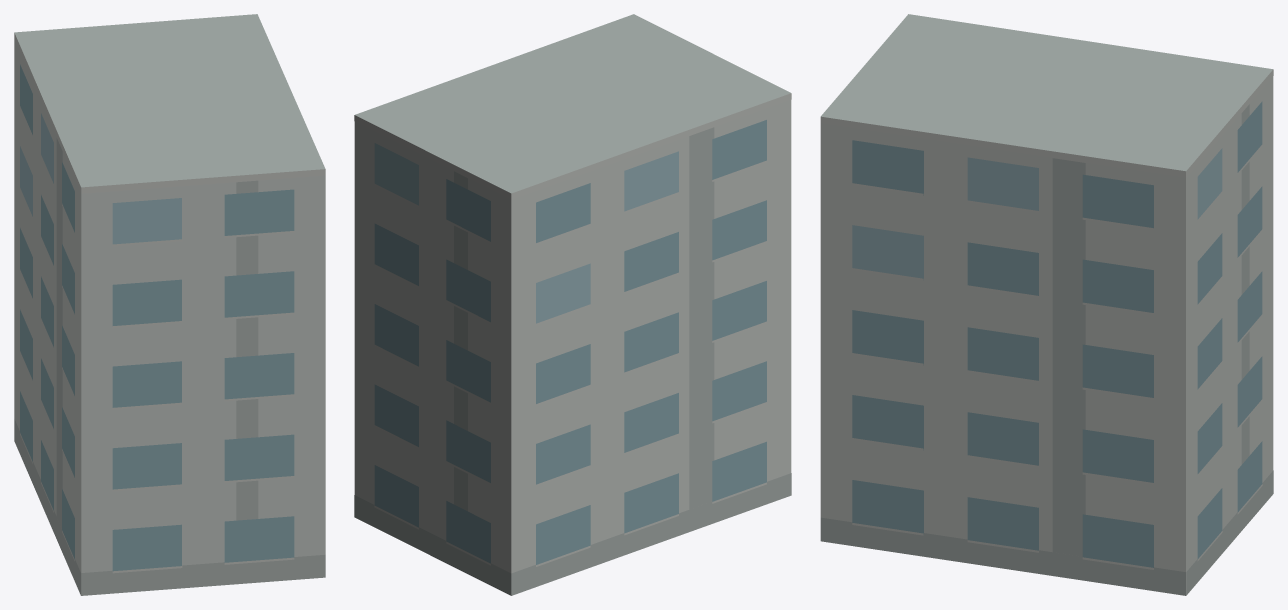
File: survey-upis-32893543.glb
3 views of the same model, side by side, from view 1: azimuth 30°, elevation 25°; view 2: azimuth 150°, elevation 25°; view 3: azimuth 270°, elevation 25° (orthographic). The views are drawn at different scales.
Visible parts, largest first — view 1: survey-upis-32893543.tmp; view 2: survey-upis-32893543.tmp; view 3: survey-upis-32893543.tmp.
Boxes of the visible parts, x1=… form: survey-upis-32893543.tmp: x1=14, y1=14, x2=325, y2=595; survey-upis-32893543.tmp: x1=354, y1=14, x2=791, y2=595; survey-upis-32893543.tmp: x1=820, y1=14, x2=1273, y2=595.
Size of the model in its own units: 12.12 by 15.25 by 14.75.
